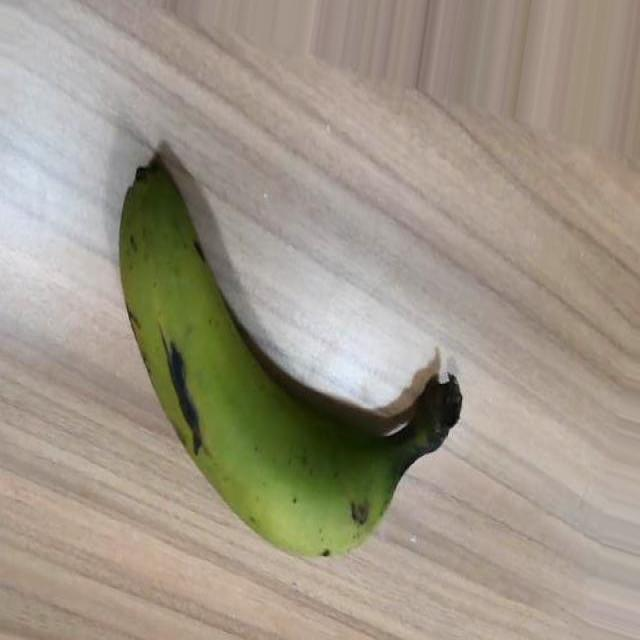Unripe: (118, 155, 464, 563)
